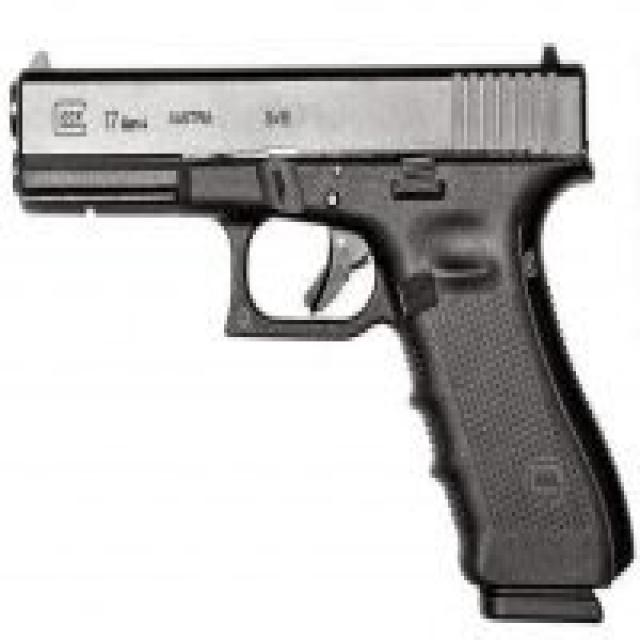handgun: (0, 43, 635, 632)
